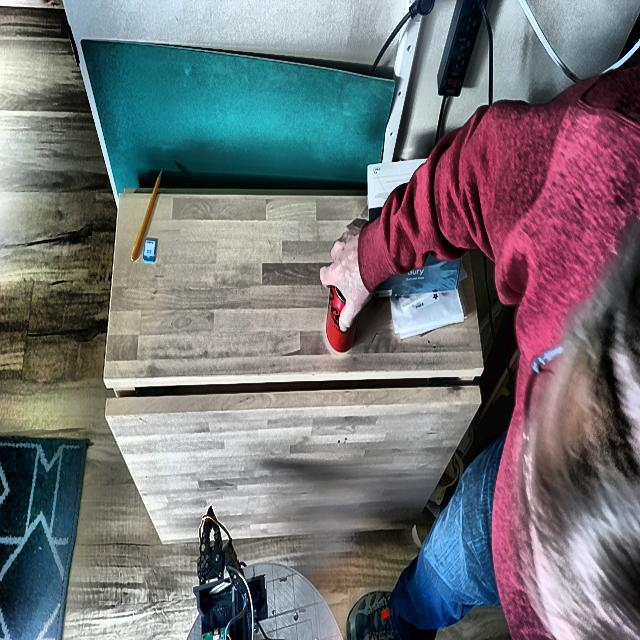Can: (326, 286, 357, 352)
